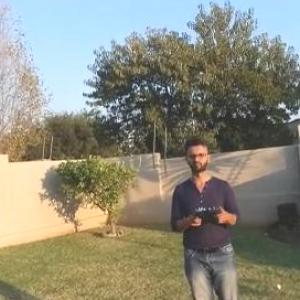follow: (167, 129, 247, 299)
